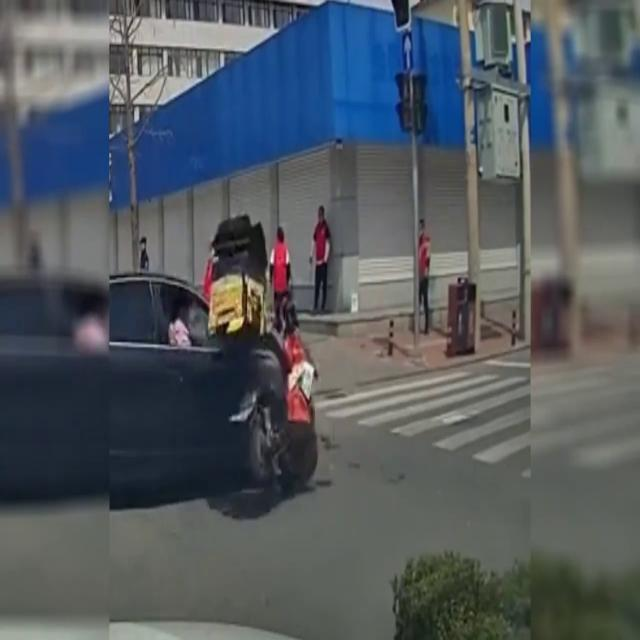accident: (108, 214, 320, 511)
